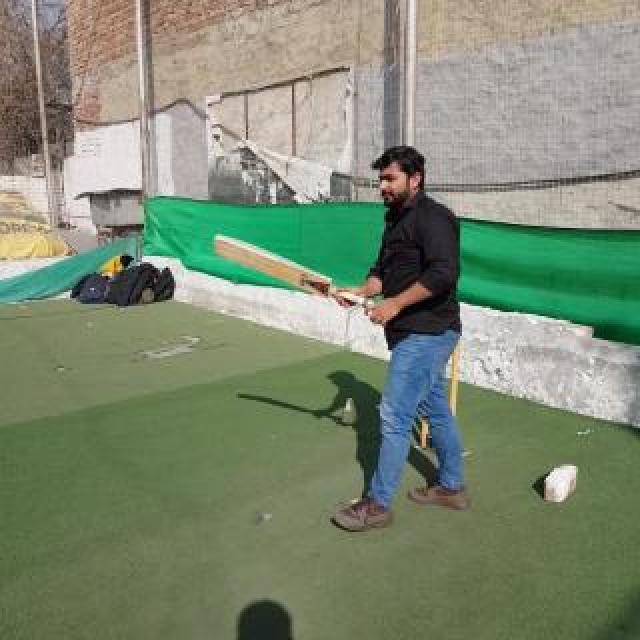bat: (213, 233, 371, 307)
